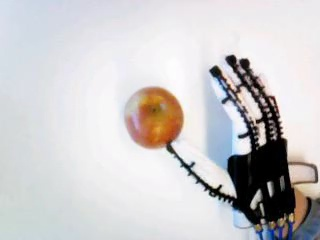apple: (123, 86, 183, 149)
hand: (165, 55, 296, 228)
